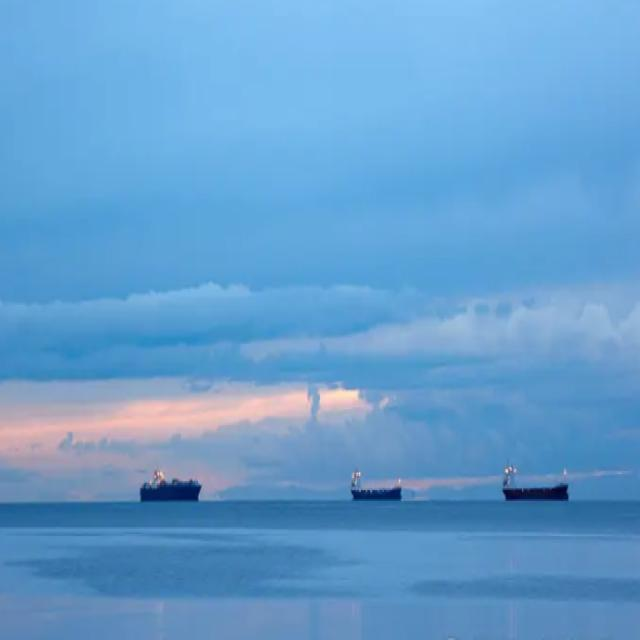cargoship: (502, 450, 574, 508), (130, 455, 202, 509), (354, 468, 409, 498)
